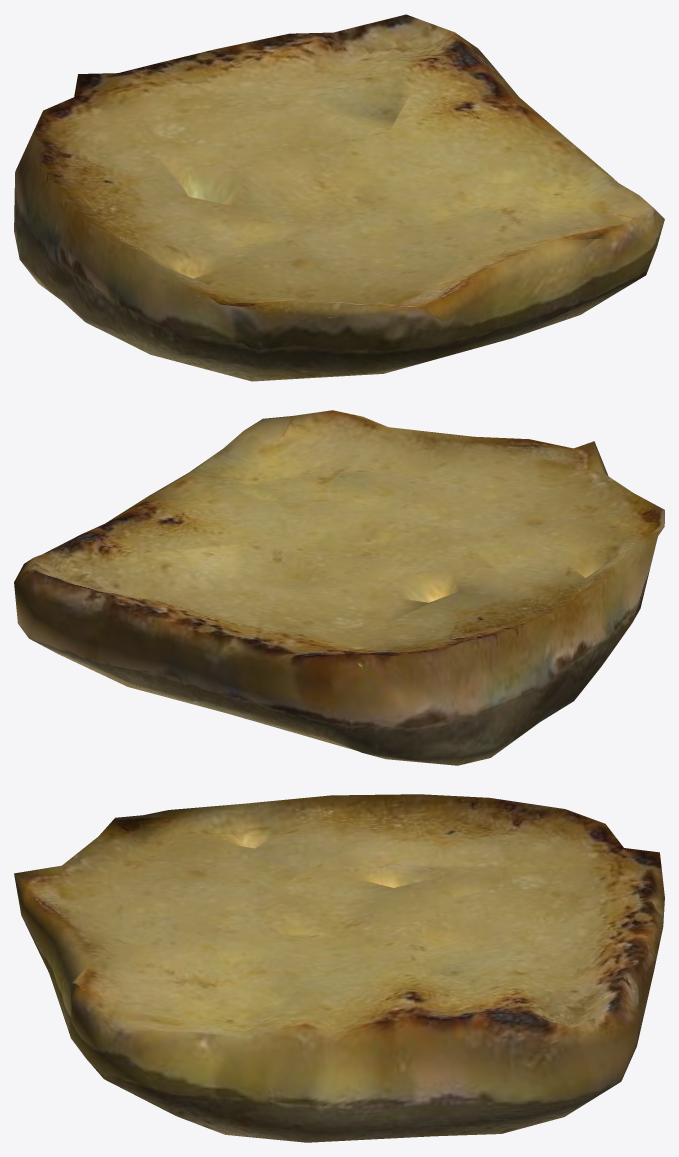
Rendered from bun-bottom.glb.
3 renders of one model, top to bottom at view 1: azimuth 30°, elevation 25°; view 2: azimuth 150°, elevation 25°; view 3: azimuth 270°, elevation 25°, orthographic. The views are drawn at different scales.
Visible parts, largest first — view 1: bun-bottom; view 2: bun-bottom; view 3: bun-bottom.
Part boxes in pixels (<box>): bun-bottom: <box>14,14,664,381</box>; bun-bottom: <box>14,410,664,765</box>; bun-bottom: <box>14,794,664,1142</box>.
Bounding box in the file's own units: 8.5 × 2.25 × 9.2.
Materials: 1 (1 with a texture image).
